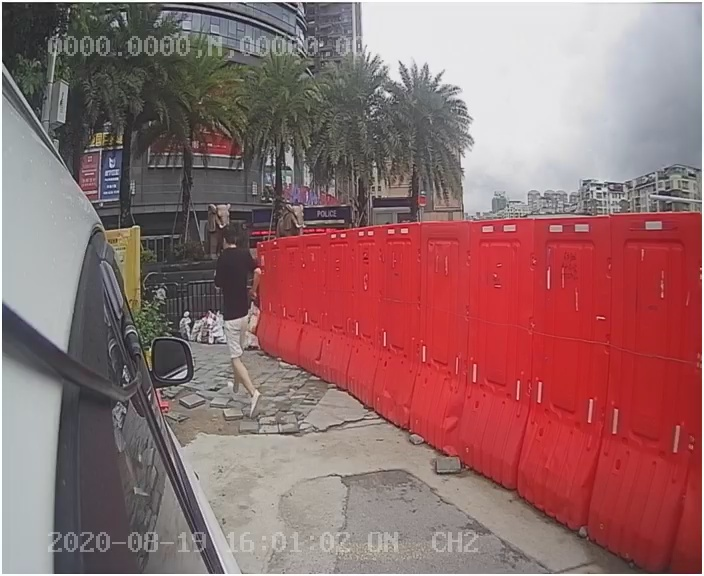person: (202, 225, 297, 416)
